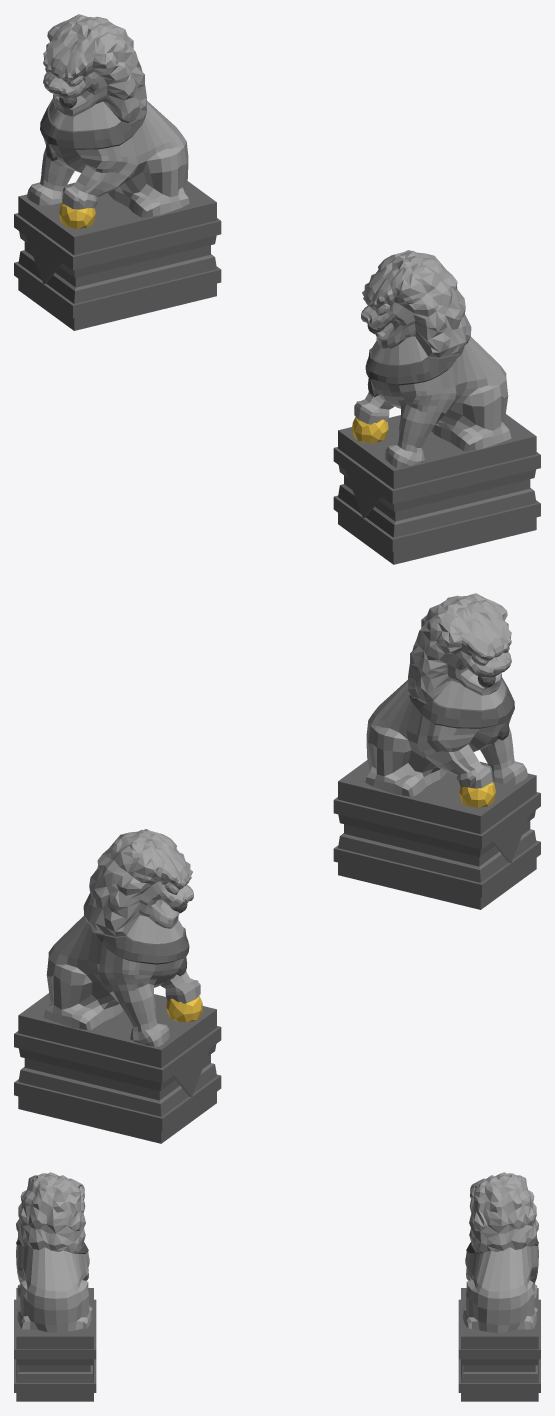
Rendered from Lions.fbx.
3 renders of one model, top to bottom at view 1: azimuth 30°, elevation 25°; view 2: azimuth 150°, elevation 25°; view 3: azimuth 270°, elevation 25°, orthographic. The views are drawn at different scales.
Parts seen in each view (by area): view 1: Lions; view 2: Lions; view 3: Lions.
Boxes of the visible parts, <box> form: Lions: <box>14,14,540,564</box>; Lions: <box>14,593,540,1143</box>; Lions: <box>14,1172,540,1401</box>.
Size of the model in its own units: 255 by 455 by 1125.
